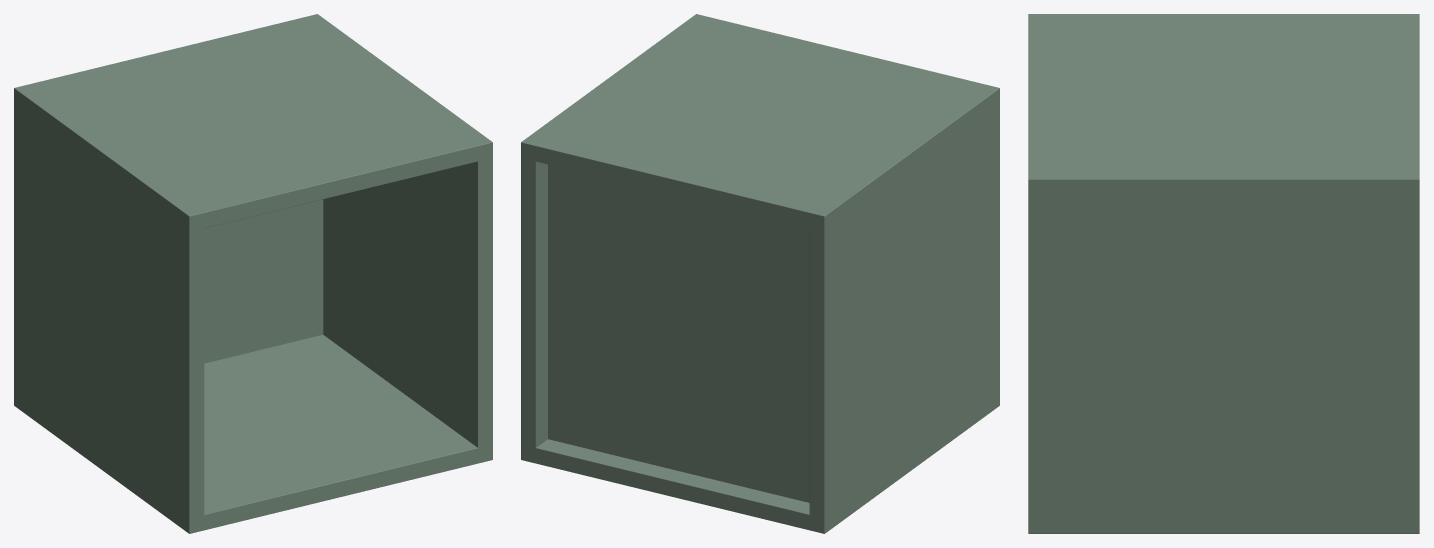
Rendered from MOD_1X1_A_B_VA.glb.
3 views of the same model, side by side, from view 1: azimuth 30°, elevation 25°; view 2: azimuth 150°, elevation 25°; view 3: azimuth 270°, elevation 25° (orthographic). The views are drawn at different scales.
Bounding box in the file's own units: 360 × 360 × 360.
